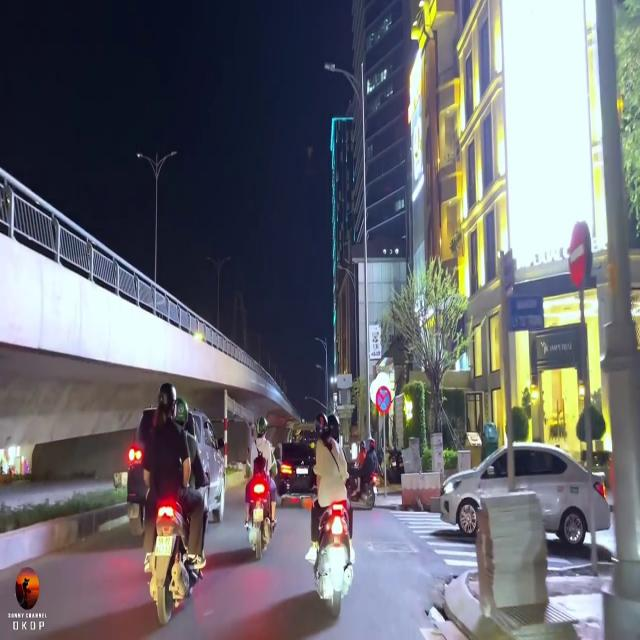bien_trang: (154, 532, 173, 558)
